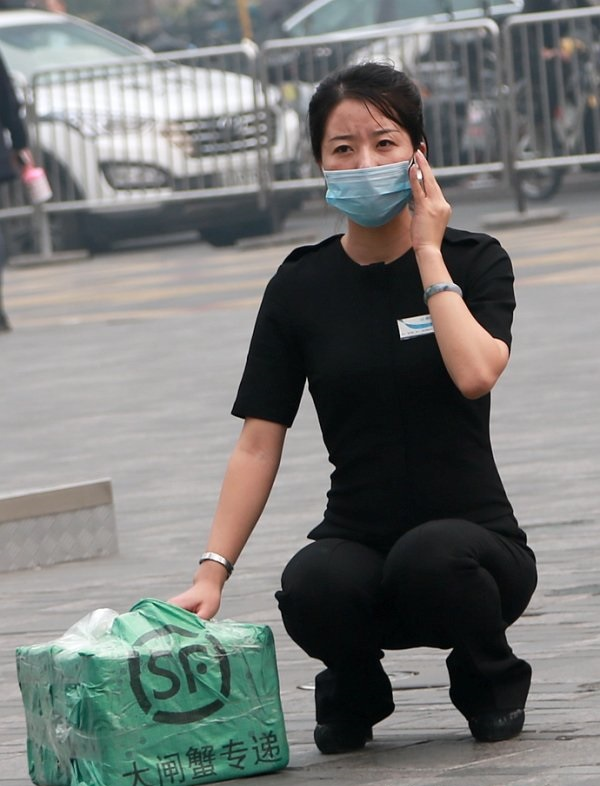face_mask: (320, 95, 411, 227)
